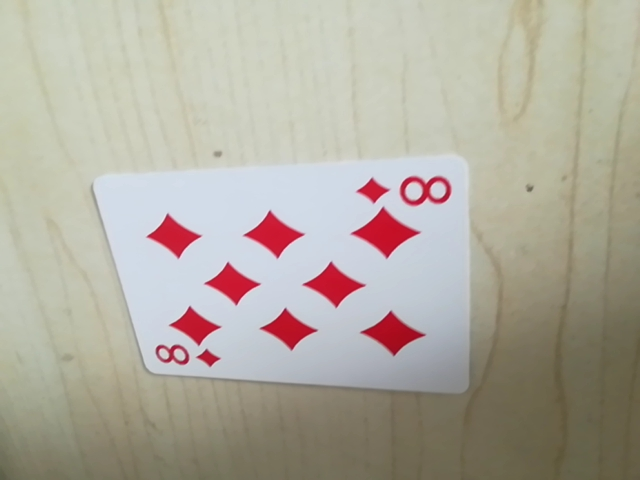fk 8: (354, 164, 459, 212), (150, 340, 222, 375)
